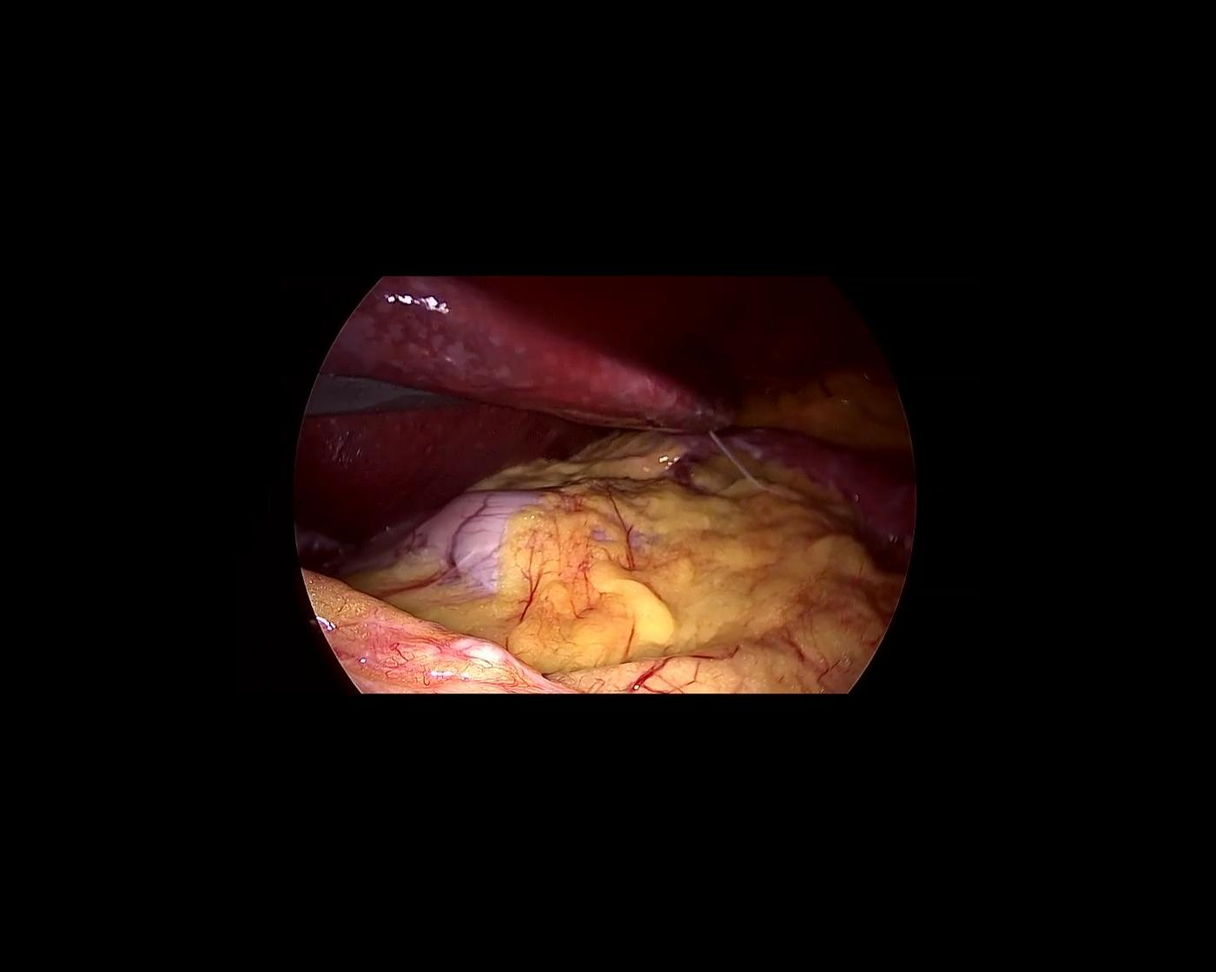Liver: (217, 166, 776, 582)
